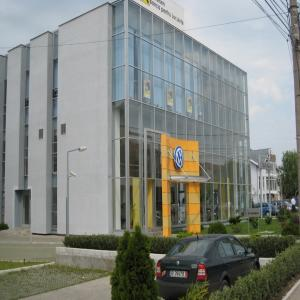Vehicle-registration-plate: (170, 271, 190, 278)
